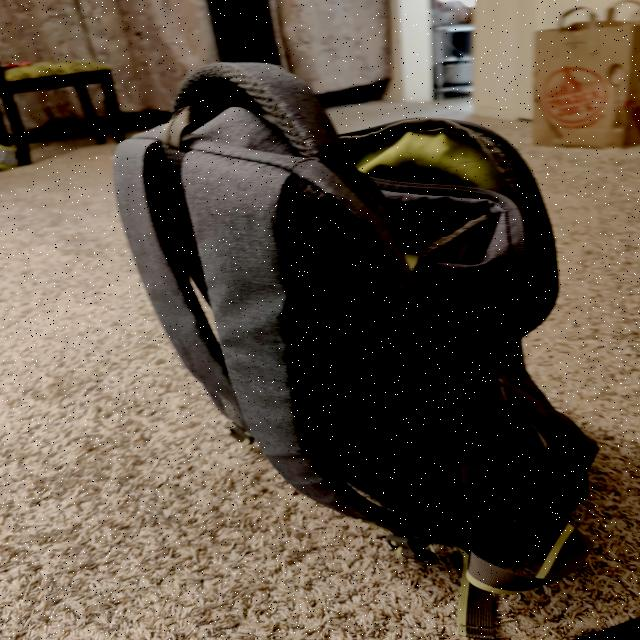bag: (131, 76, 523, 532)
